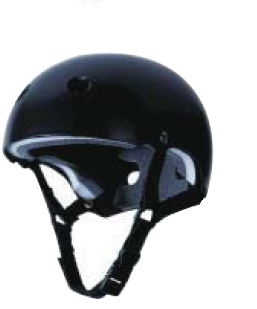helmet: (5, 53, 220, 197)
